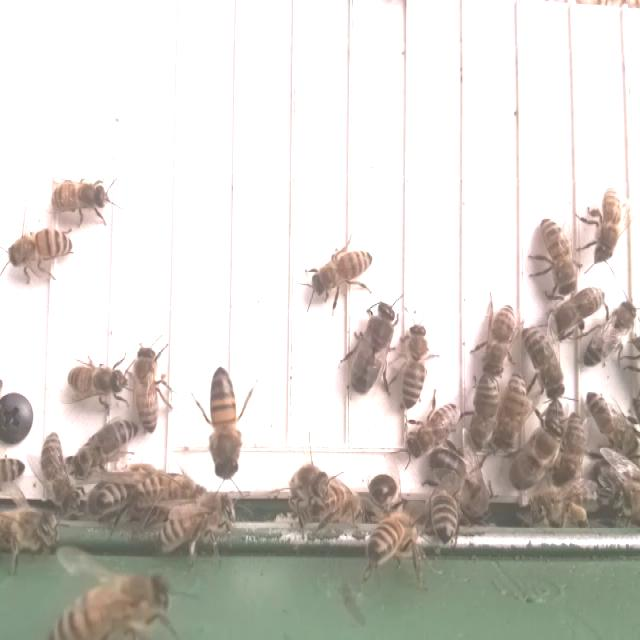Drone: (429, 445, 497, 524), (346, 298, 398, 400), (505, 416, 565, 496)
Worker: (206, 364, 244, 484), (580, 297, 638, 371), (583, 387, 640, 458), (42, 431, 84, 522), (303, 247, 376, 299), (76, 413, 137, 475), (402, 400, 457, 459), (493, 368, 529, 455), (520, 328, 564, 399), (398, 319, 432, 410), (538, 212, 574, 297), (135, 344, 167, 434), (8, 225, 75, 266), (554, 283, 610, 332), (590, 185, 623, 263), (555, 409, 587, 488), (467, 368, 498, 447), (66, 362, 127, 402), (48, 177, 110, 214), (485, 299, 517, 369)
